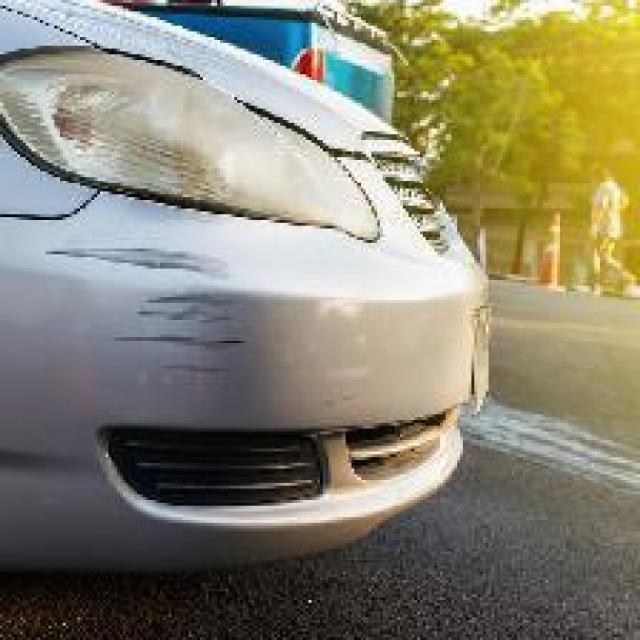damaged: (43, 242, 266, 394)
